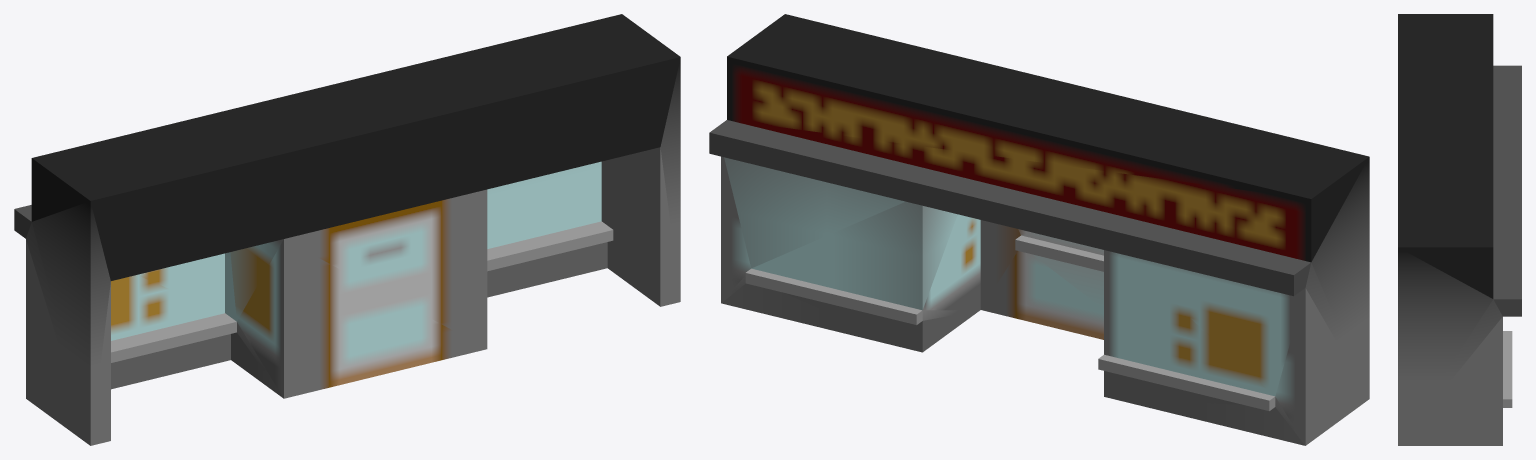
File: obj_store1.dae
3 renders of one model, left to right at view 1: azimuth 30°, elevation 25°; view 2: azimuth 150°, elevation 25°; view 3: azimuth 270°, elevation 25°, orthographic. The views are drawn at different scales.
Parts seen in each view (by area): view 1: obj_store1; view 2: obj_store1; view 3: obj_store1.
Part boxes in pixels (left/top/right/bottom): obj_store1: left=14, top=14, right=680, bottom=445; obj_store1: left=709, top=14, right=1369, bottom=445; obj_store1: left=1398, top=14, right=1521, bottom=445.
Size of the model in its own units: 5.8 by 1.3 by 2.3.
1 material, 1 textured.
